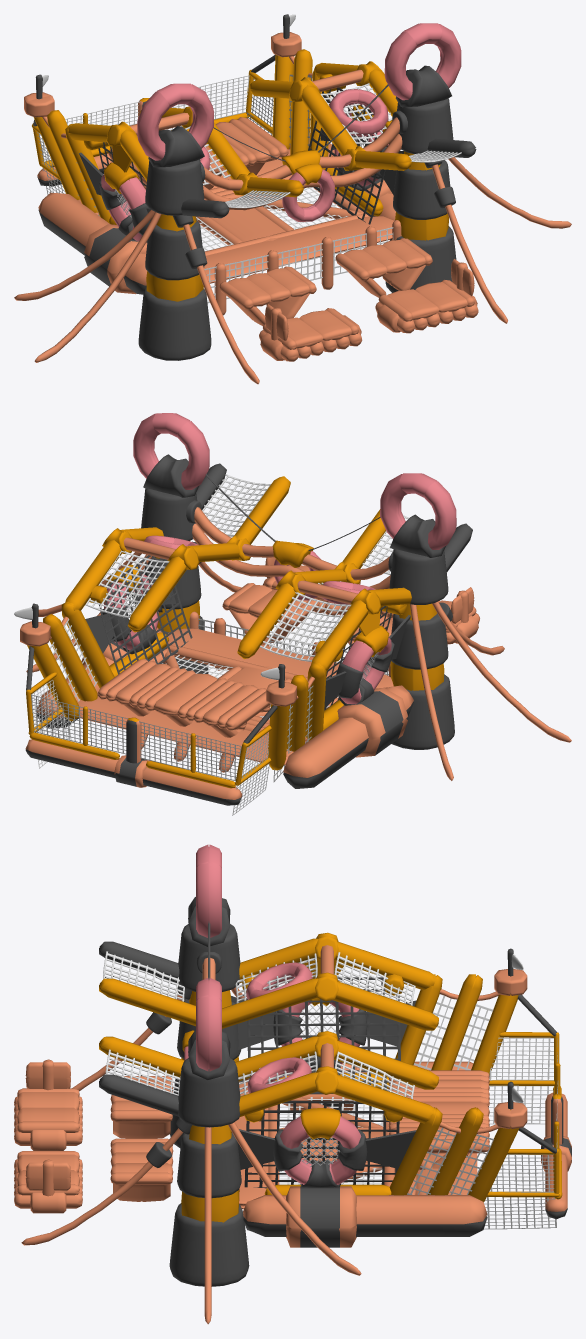
Rendered from CastilloMedio.fbx.
3 renders of one model, top to bottom at view 1: azimuth 30°, elevation 25°; view 2: azimuth 150°, elevation 25°; view 3: azimuth 270°, elevation 25°, orthographic. The views are drawn at different scales.
Visible parts, largest first — view 1: pCube429, pCube498, pTorus7, pTorus6, pCube488, pCube431, pCube427, pCube430, pCube432, pCube538, red34, pTorus10 (+62 smaller); view 2: pCube488, pCube500, pTorus6, pTorus7, red31, pCube498, pCube538, pCube429, pCube431, group5_pCube482, red24, pCube430 (+58 smaller); view 3: group5_pCube482, pCube489, pCube428, pCube537, pCube432, pCube427, red30, red31, pCube431, pTorus6, pTorus7, pCube494 (+59 smaller).
Part boxes in pixels (x1,y1,x2,y2): pCube429: [138, 287, 211, 360]; pCube498: [204, 216, 393, 283]; pTorus7: [137, 83, 213, 160]; pTorus6: [384, 23, 461, 100]; pCube488: [38, 192, 147, 294]; pCube431: [145, 159, 204, 215]; pCube427: [393, 160, 450, 219]; pCube430: [145, 220, 204, 280]; pCube432: [397, 98, 453, 154]; pCube538: [84, 224, 147, 294]; red34: [204, 227, 393, 303]; pTorus10: [329, 89, 388, 136]; pCube488: [283, 685, 413, 788]; pCube500: [77, 696, 293, 765]; pTorus6: [133, 413, 209, 489]; pTorus7: [380, 473, 456, 549]; red31: [99, 555, 192, 674]; pCube498: [166, 628, 393, 688]; pCube538: [337, 687, 407, 757]; pCube429: [392, 674, 454, 749]; pCube431: [389, 549, 448, 604]; group5_pCube482: [85, 559, 176, 654]; red24: [259, 592, 351, 661]; pCube430: [391, 613, 448, 669]; group5_pCube482: [231, 1108, 416, 1187]; pCube489: [243, 1195, 487, 1236]; pCube428: [169, 1203, 249, 1286]; pCube537: [286, 1186, 356, 1247]; pCube432: [178, 1058, 240, 1127]; pCube427: [177, 1133, 241, 1198]; red30: [246, 977, 400, 1094]; red31: [244, 1100, 399, 1188]; pCube431: [178, 924, 240, 991]; pTorus6: [196, 978, 221, 1071]; pTorus7: [196, 844, 221, 937]; pCube494: [332, 981, 438, 1030].
Bounding box in the file's own units: 7428 × 3462 × 5982.
